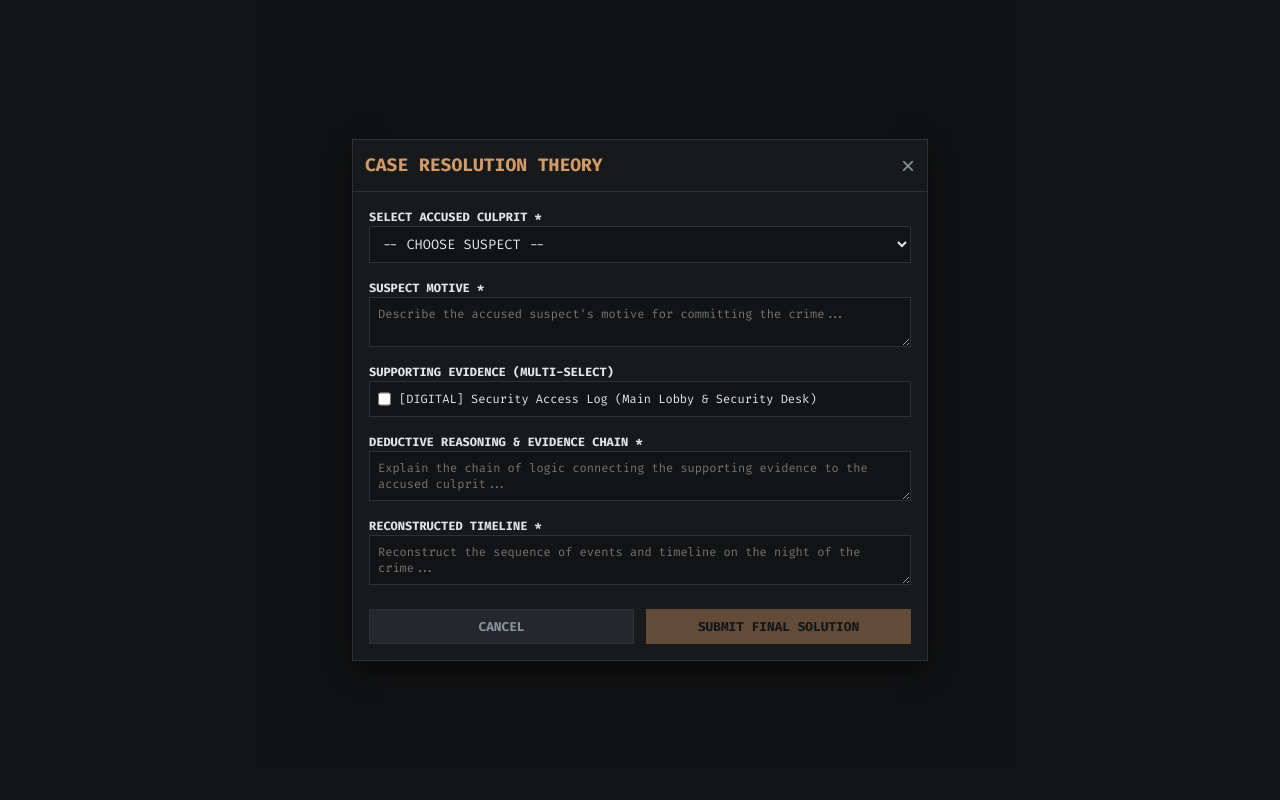
Test: DetectiveAI Frontend Test Suite › supports solution form entry and submission rendering
This screenshot has width=1280, height=800.
Expected: the text "Select Accused Culprit *" is shown, [369,209,542,225]
Note: Choose Sofia Bennett/Elena
Select "Elena Marlow (Colleague)" in the dropdown at (640, 244), box [369,226,911,263]
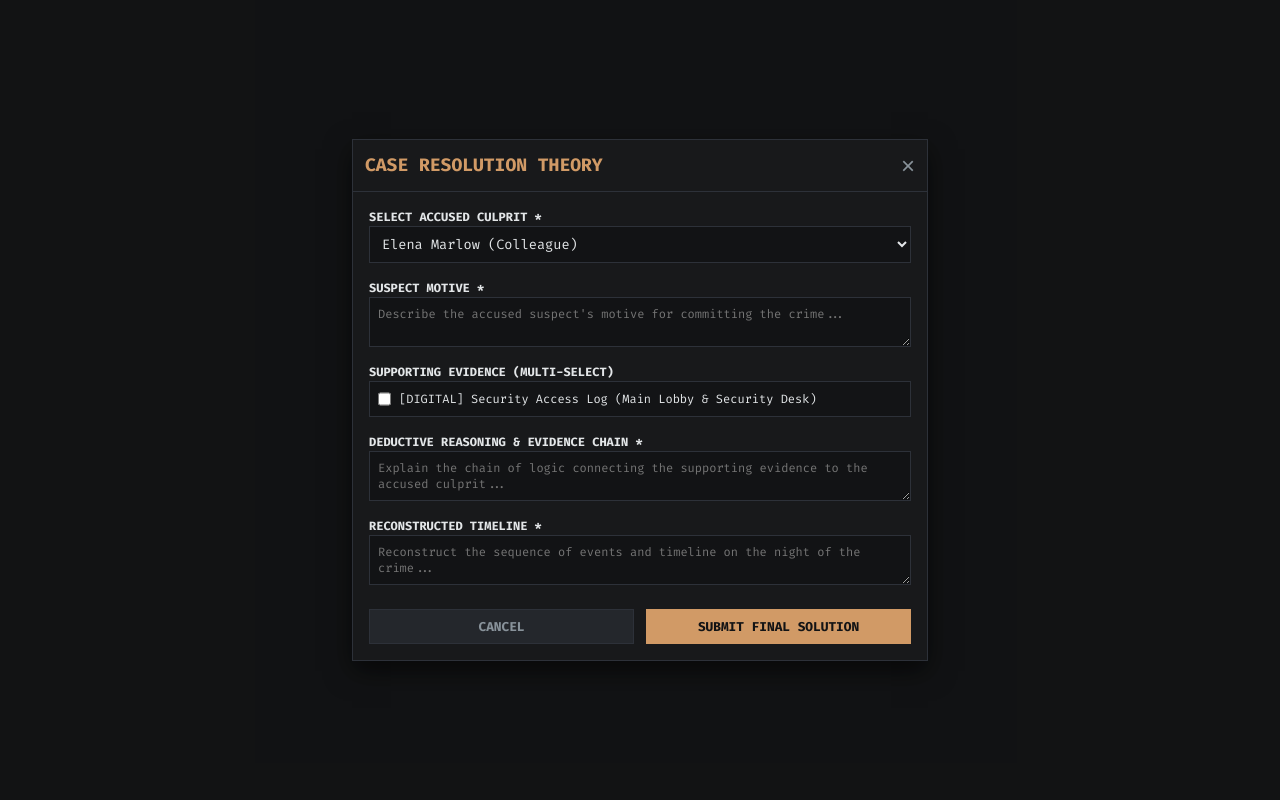
Note: textareas: 0: motive, 1: reasoning, 2: timeline
Replace the text in the 1st text box with "Financial motive." at (640, 322), box [369,297,911,347]
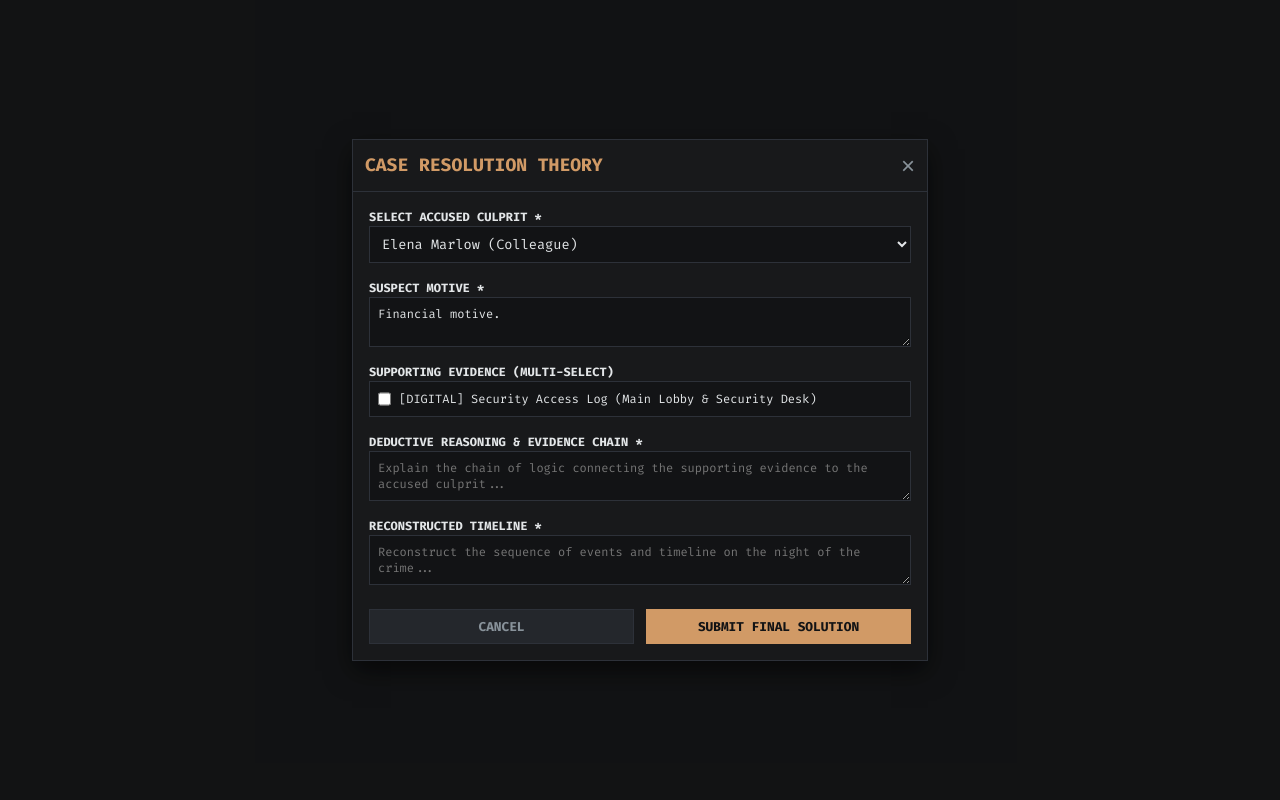
Replace the text in the 2nd text box with "Logic link." at (640, 476), box [369,451,911,501]
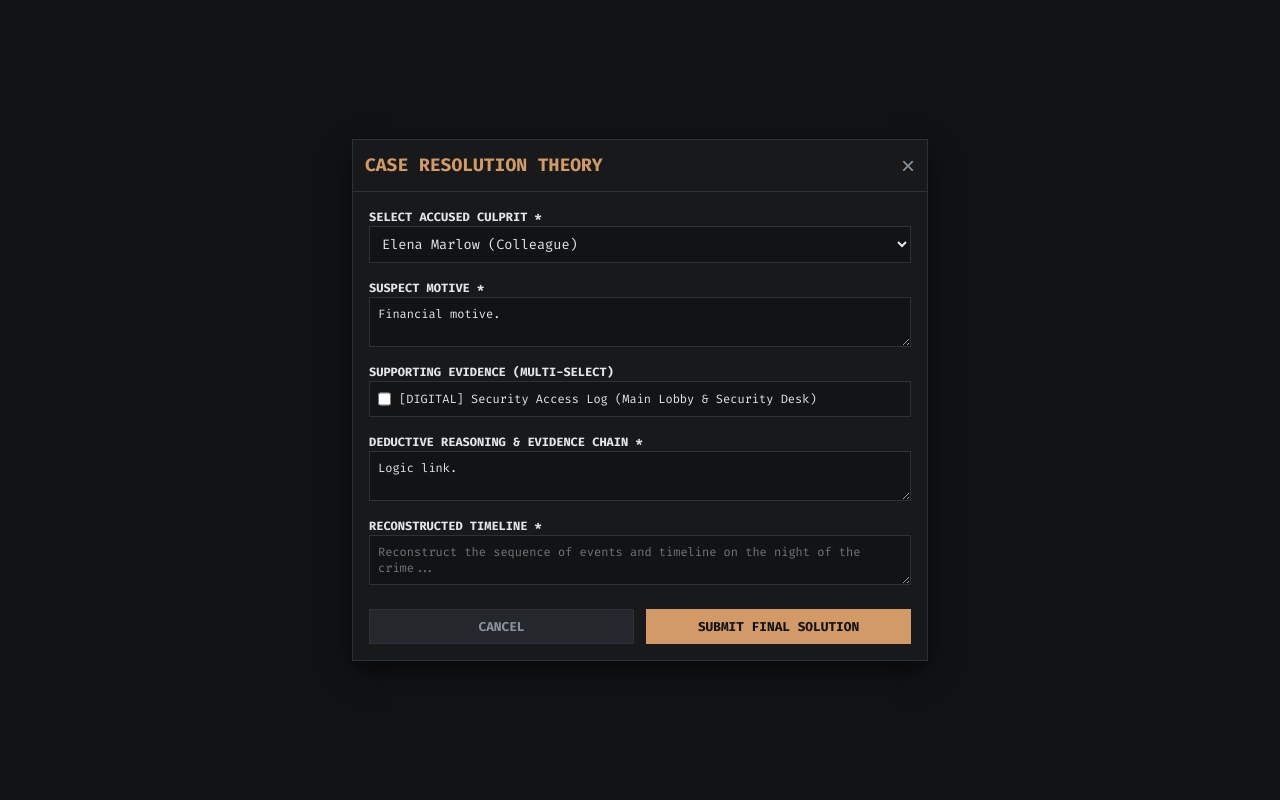
Replace the text in the 3rd text box with "Timeline info." at (640, 560), box [369,535,911,585]
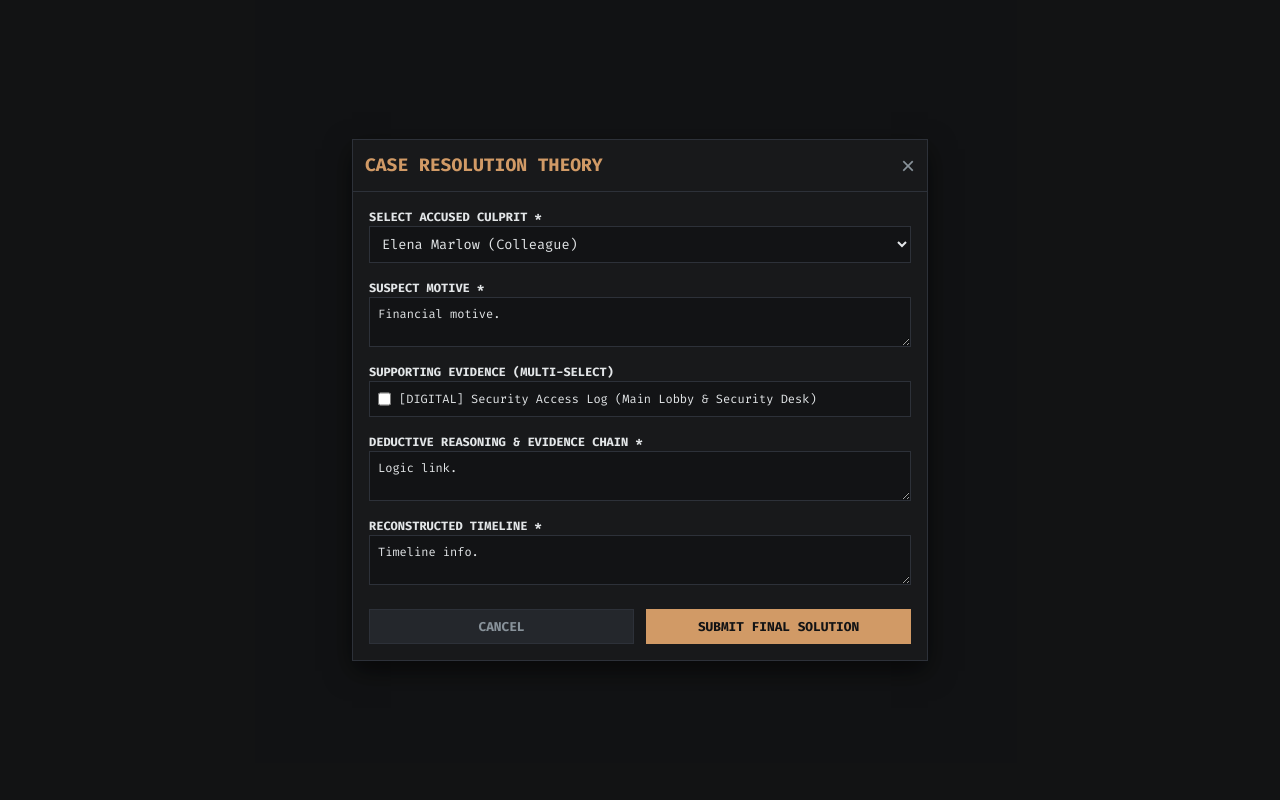
Note: Click submit
Click the button "Submit Final Solution" at (778, 626), box [646,609,911,644]
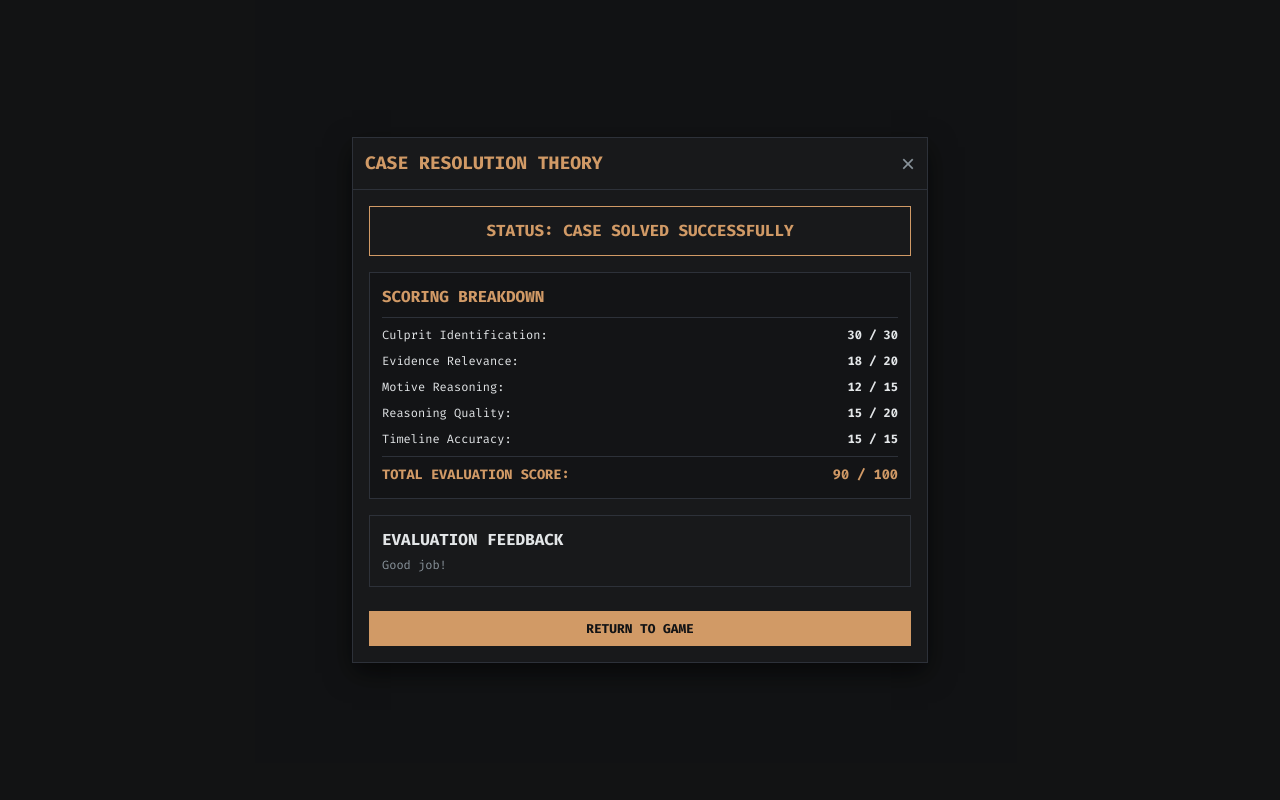
Now the text "STATUS: CASE SOLVED SUCCESSFULLY" is shown, box [369,206,911,256]
Now the text "Culprit Identification:" is shown, box [382,326,548,344]
Now the text "30 / 30" is shown, box [848,326,898,344]
